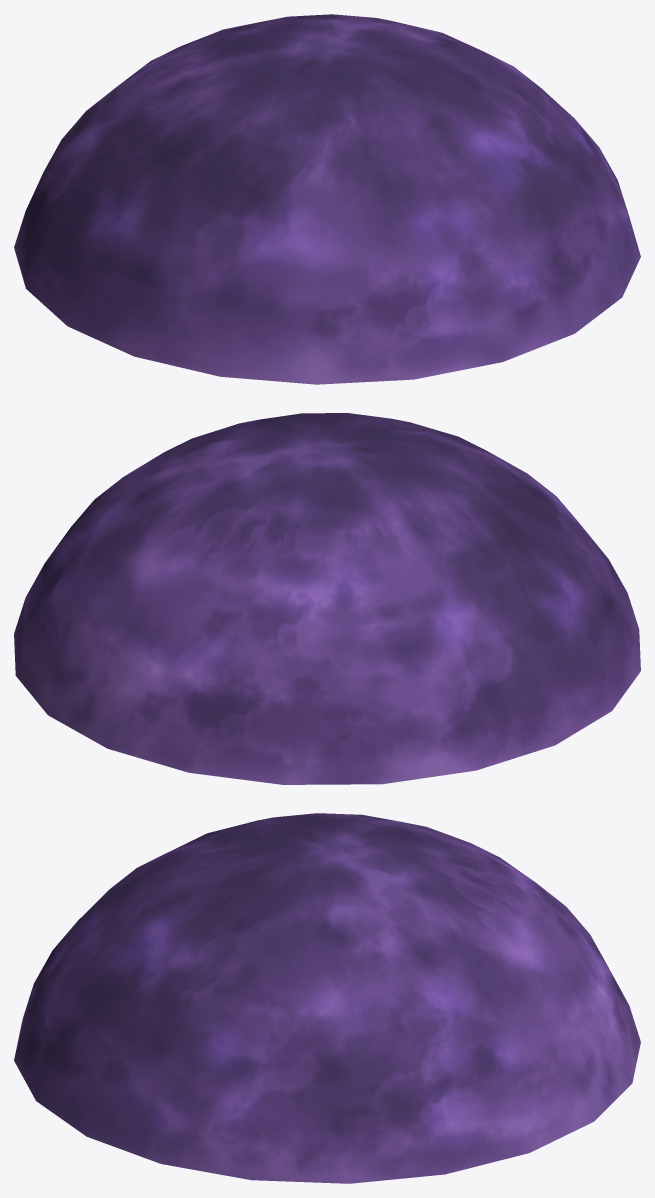
The model's file is Sky DemonsWorld - 01.fbx.
3 views of the same model, one above another, from view 1: azimuth 30°, elevation 25°; view 2: azimuth 150°, elevation 25°; view 3: azimuth 270°, elevation 25° (orthographic).
Visible parts, largest first — view 1: sky; view 2: sky; view 3: sky.
Part boxes in pixels (x1=…): sky: x1=14, y1=14, x2=640, y2=384; sky: x1=14, y1=413, x2=640, y2=784; sky: x1=14, y1=813, x2=640, y2=1183.
Bounding box in the file's own units: 985 × 356 × 985.
